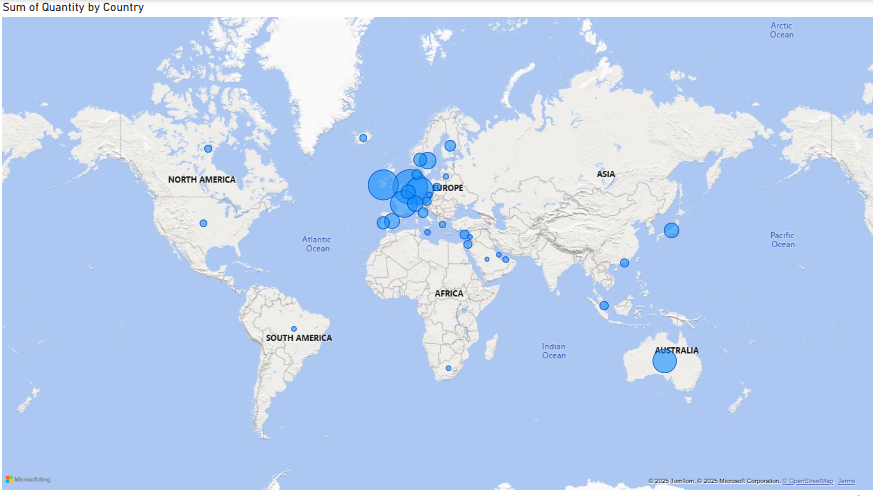

The page's visual inventory and layout, read from the dashboard file:
{"tool":"powerbi","page":{"name":"Question 4","canvas":[1280,720],"ordinal":3},"visuals":[{"type":"map","fields":{"Category":["Online Retail.Country"],"Size":["Sum(Online Retail.Quantity)"]},"box":[17.3,0,1262.9,709.9],"z":0}]}

Visuals, with their boxes in screenshot pixels (x1, y1, x2, y2), scaled from the page's 1280x720 canvas onto the 873x496 screenshot:
map - Online Retail.Country x Sum(Online Retail.Quantity): (12, 0, 872, 489)
